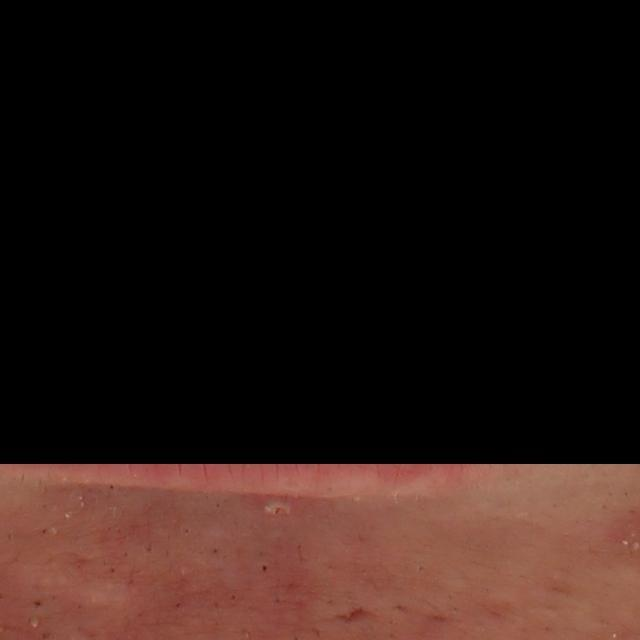atrophic_scar: (331, 604, 374, 620)
hypertrophic_scar: (17, 562, 136, 609)
pustule: (251, 494, 297, 521)
